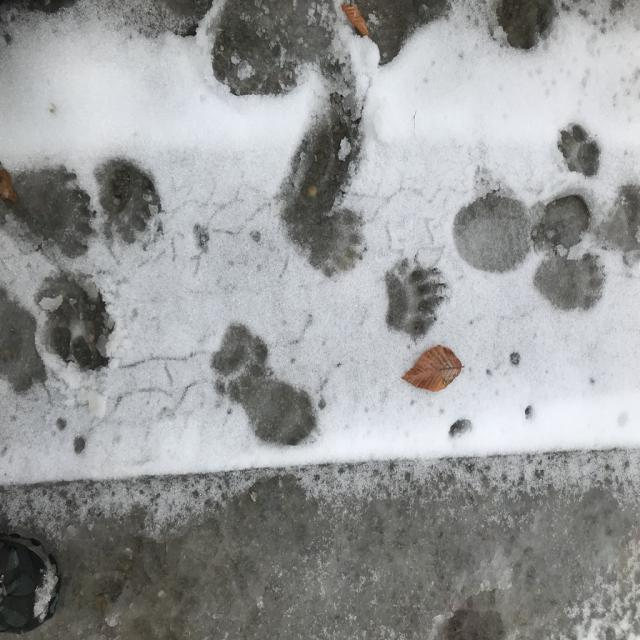bear: (386, 254, 444, 336), (210, 324, 268, 402)
